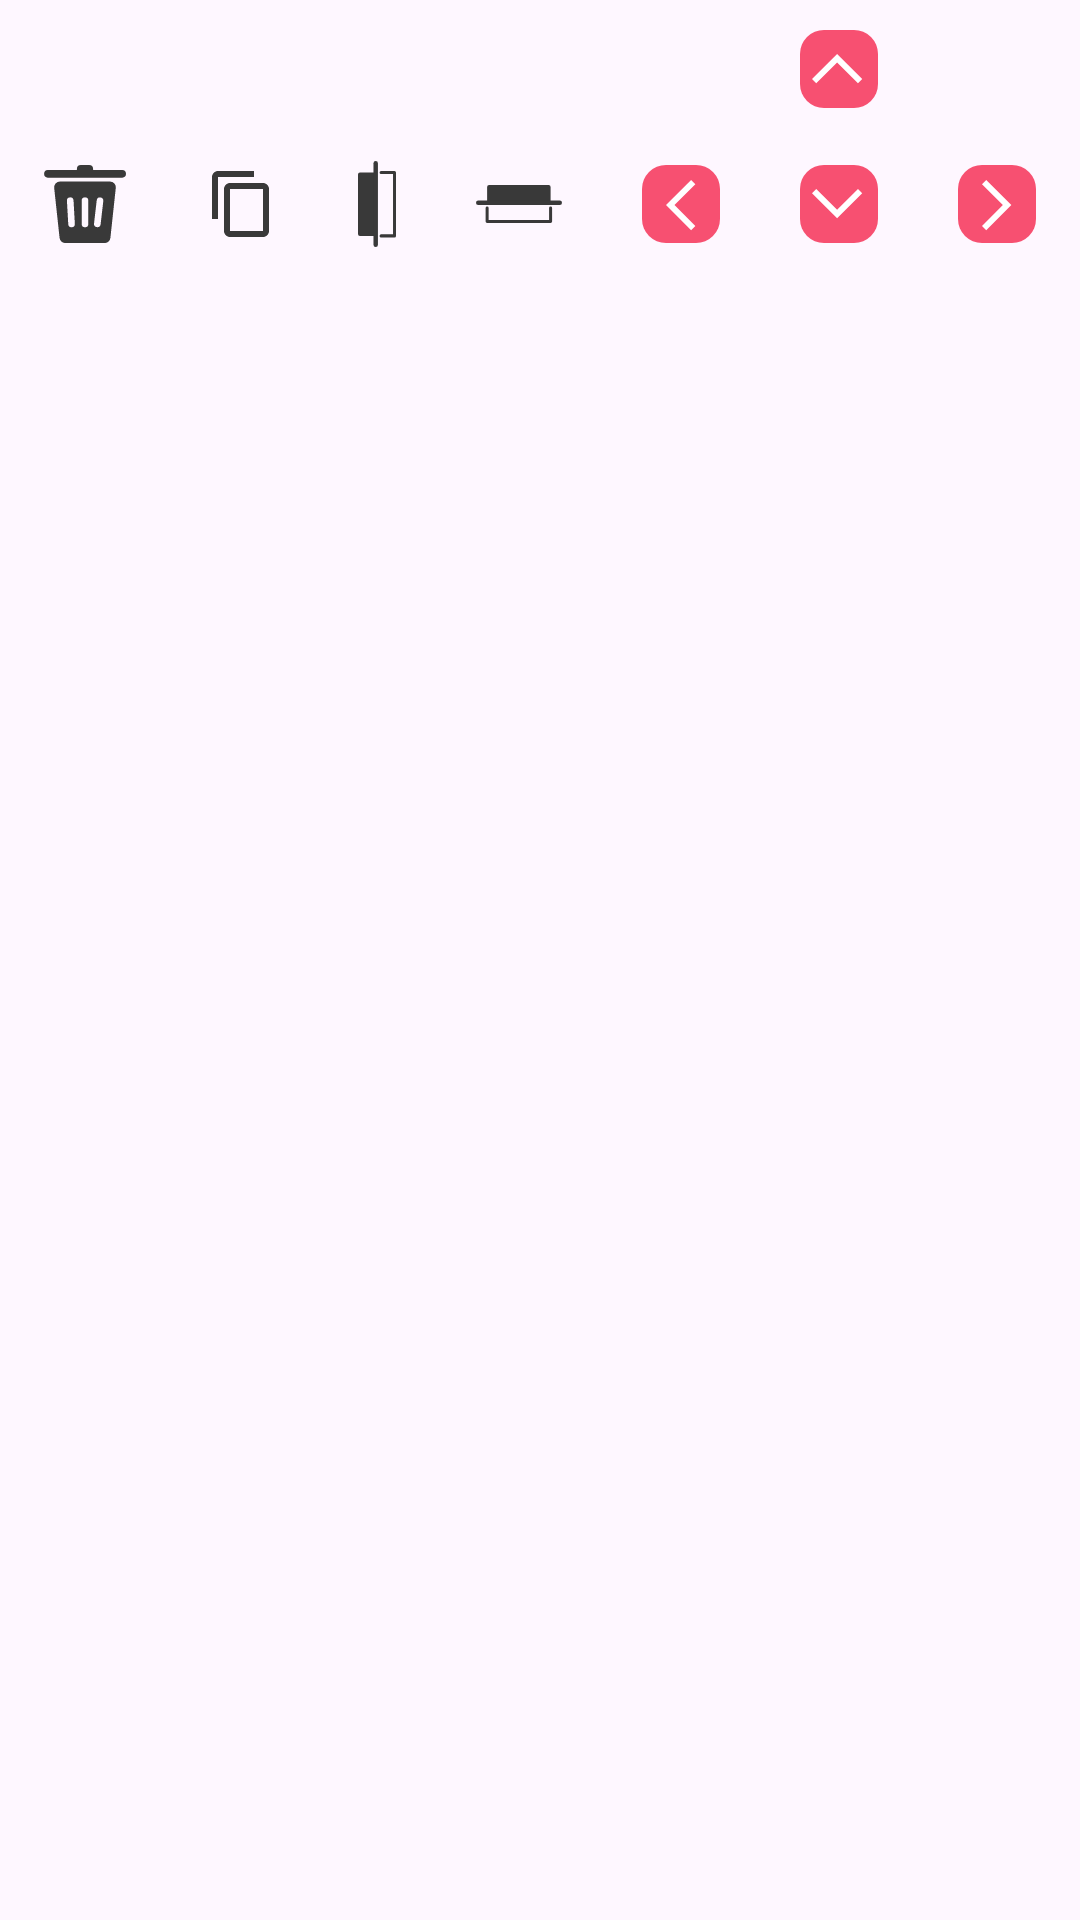

Where to tap for icons on this 1080w x 1920h app screen, as (x=x, y=y):
delete control: (x=85, y=204)
down arrow: (x=839, y=204)
left arrow: (x=681, y=204)
right arrow: (x=997, y=204)
up arrow: (x=839, y=69)
